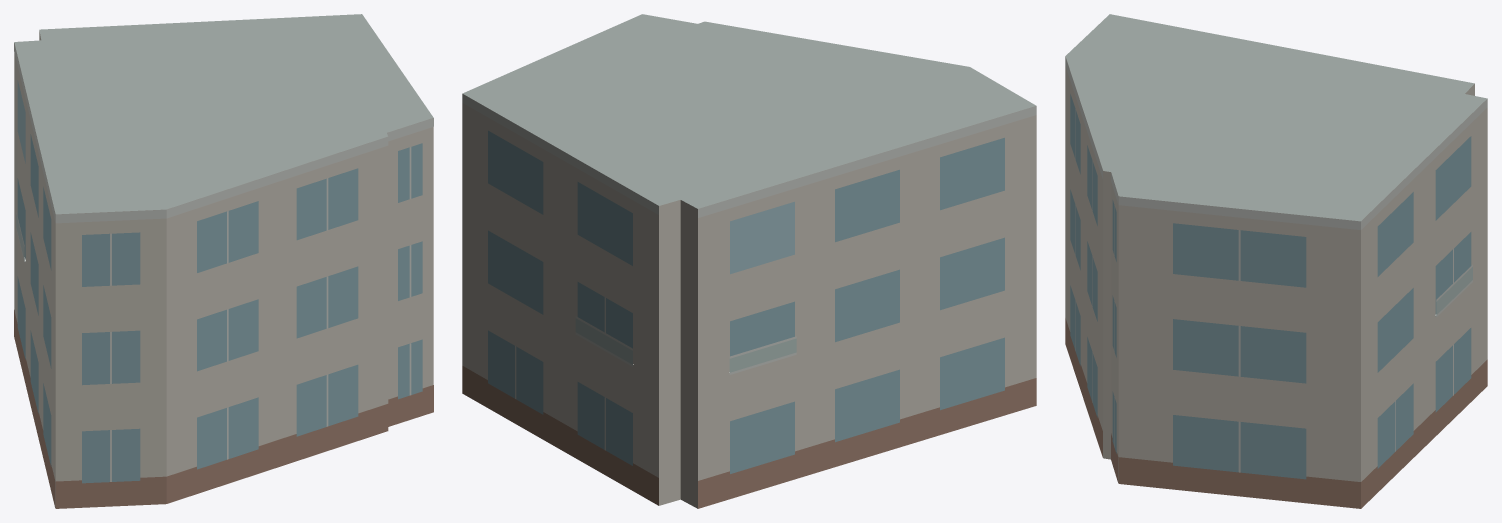
File: survey-upis-33022400.glb
3 renders of one model, left to right at view 1: azimuth 30°, elevation 25°; view 2: azimuth 150°, elevation 25°; view 3: azimuth 270°, elevation 25°, orthographic. The views are drawn at different scales.
Parts seen in each view (by area): view 1: survey-upis-33022400.tmp; view 2: survey-upis-33022400.tmp; view 3: survey-upis-33022400.tmp.
Part boxes in pixels (x1,y1,x2,y2): survey-upis-33022400.tmp: (14,14,433,508); survey-upis-33022400.tmp: (462,14,1036,508); survey-upis-33022400.tmp: (1065,14,1487,508).
Bounding box in the file's own units: 12.31 × 7.95 × 10.59.
